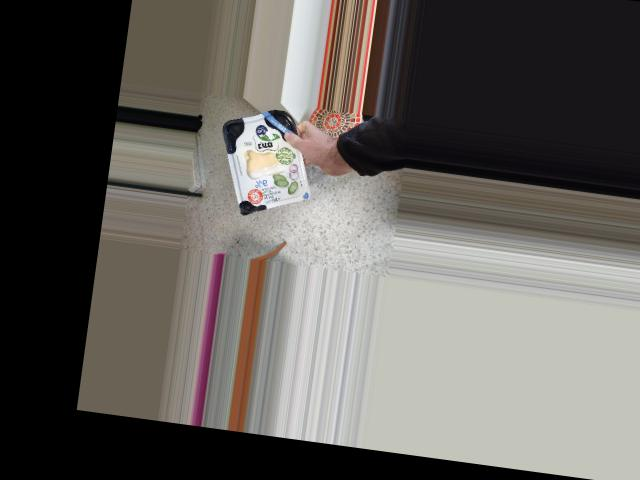cheese: (231, 117, 310, 211)
